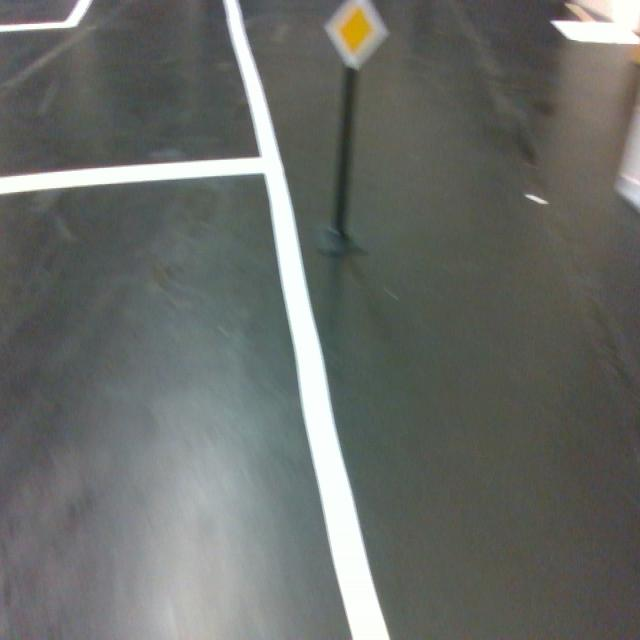priority-sign: (320, 0, 390, 72)
